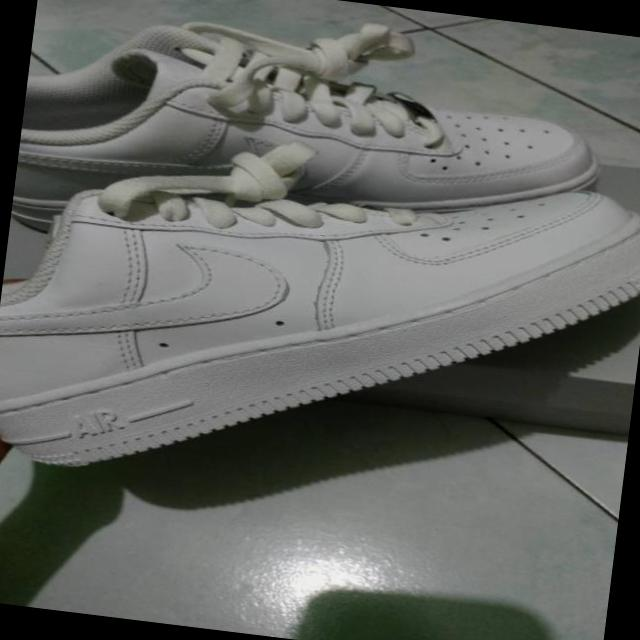nike_original_airforce: (0, 120, 640, 540), (15, 0, 640, 255)
